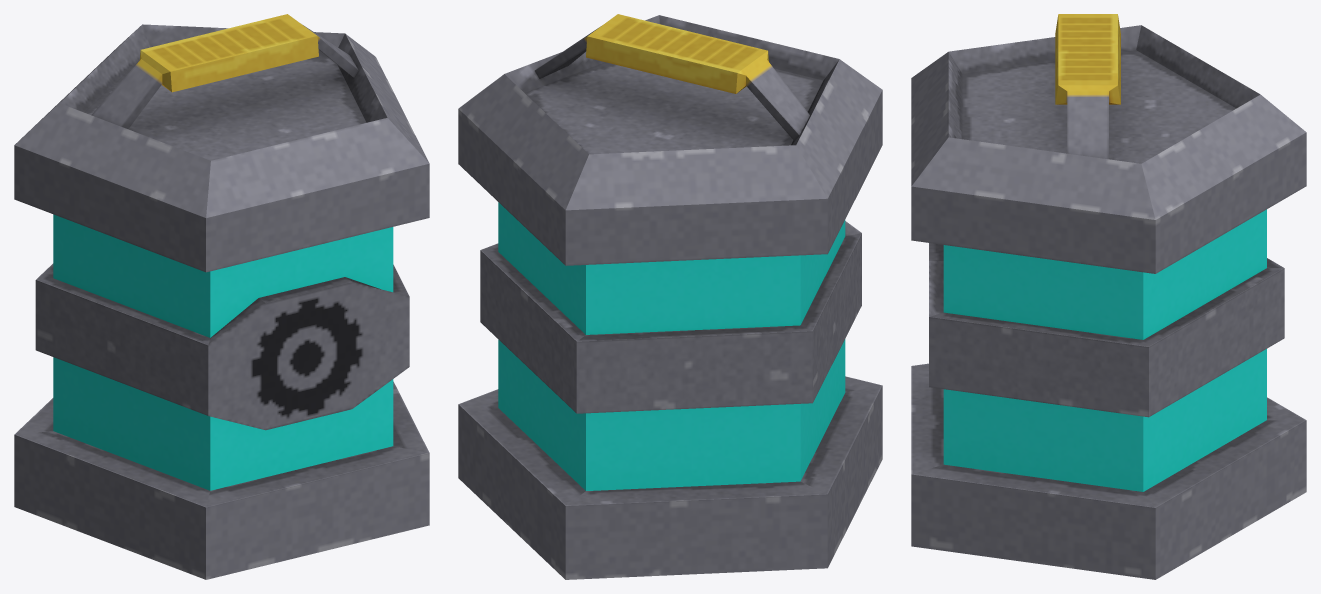
The model's file is Health Pickup.fbx.
3 views of the same model, side by side, from view 1: azimuth 30°, elevation 25°; view 2: azimuth 150°, elevation 25°; view 3: azimuth 270°, elevation 25° (orthographic). The views are drawn at different scales.
Parts seen in each view (by area): view 1: Cylinder; view 2: Cylinder; view 3: Cylinder.
Part boxes in pixels (x1,y1,x2,y2): Cylinder: [14, 14, 429, 579]; Cylinder: [458, 14, 882, 579]; Cylinder: [911, 14, 1306, 579].
Bounding box in the file's own units: 29.29 × 34.43 × 27.86.
Materials: 1 (1 with a texture image).
